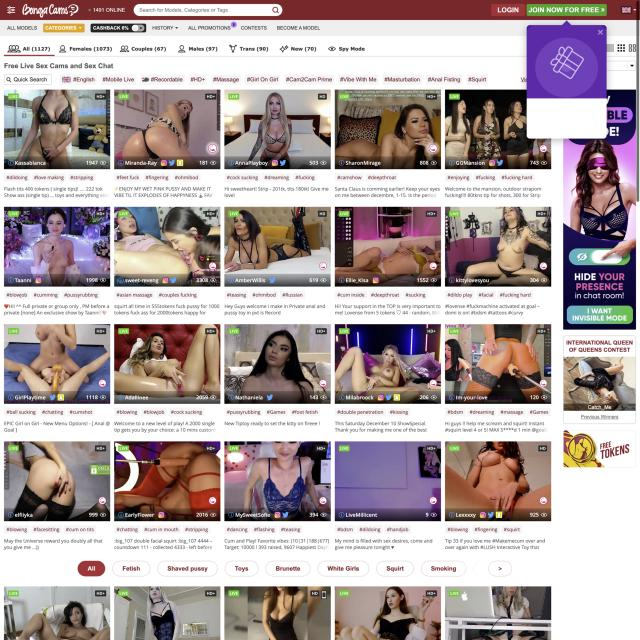CheckBox: (526, 3, 609, 20), (90, 23, 148, 33), (489, 3, 527, 16), (42, 23, 85, 34)
CheckedTextView: (130, 2, 285, 18)
alert: (43, 23, 86, 33), (619, 3, 637, 15)
carousel: (4, 4, 18, 16)
copy: (224, 88, 330, 170)
date picker: (20, 3, 81, 19)
decoration: (4, 42, 368, 56), (5, 23, 322, 34)
illustration: (139, 74, 186, 84), (100, 75, 137, 84), (188, 75, 208, 84)
label: (524, 19, 608, 139)
